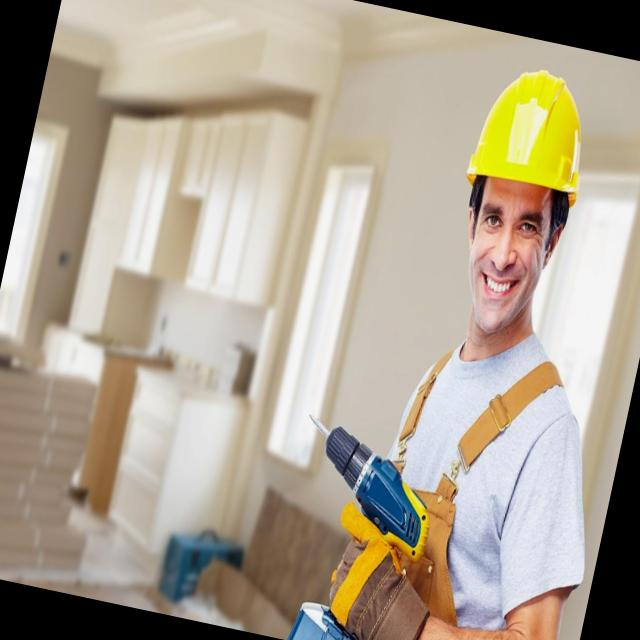helmet: (446, 50, 616, 224)
no-vest: (318, 311, 609, 640)
